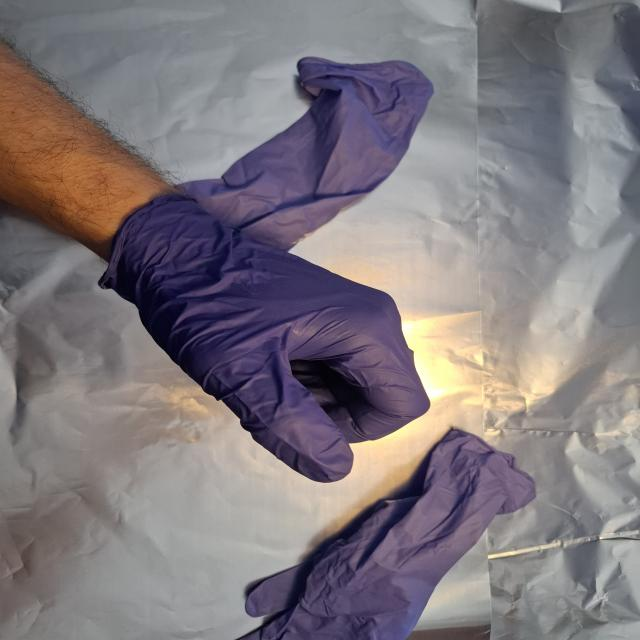glove_on: (104, 191, 434, 486)
